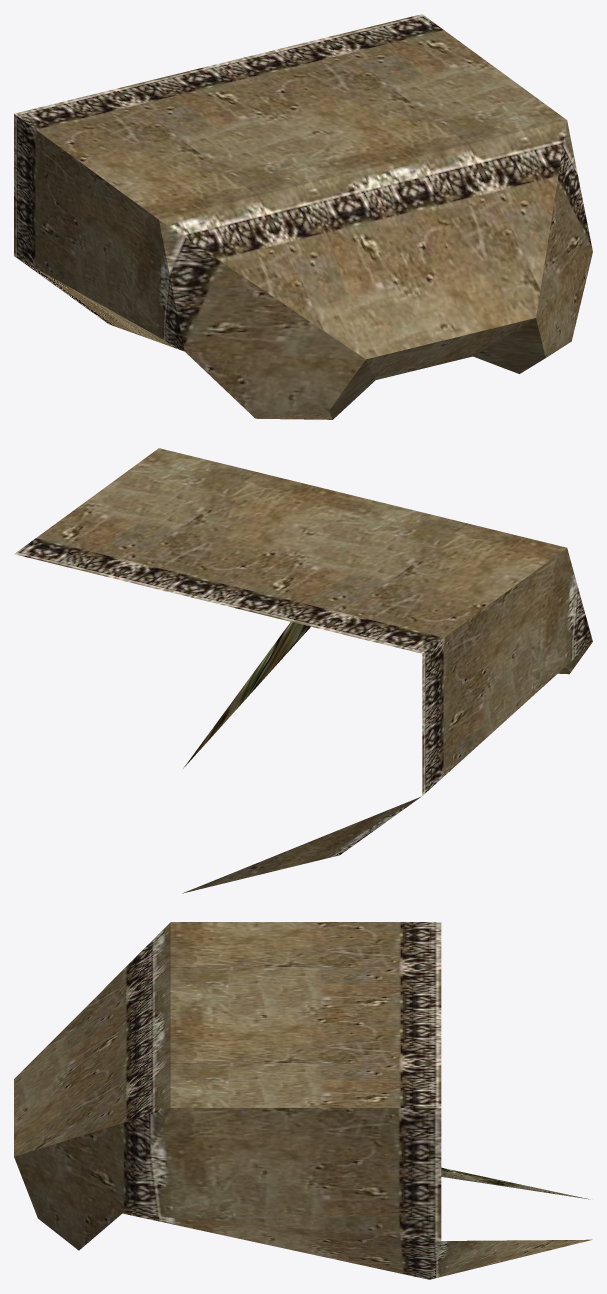
The model's file is StoneMuWall03.glb.
3 renders of one model, top to bottom at view 1: azimuth 30°, elevation 25°; view 2: azimuth 150°, elevation 25°; view 3: azimuth 270°, elevation 25°, orthographic. The views are drawn at different scales.
Visible parts, largest first — view 1: model_StoneMuWall03; view 2: model_StoneMuWall03; view 3: model_StoneMuWall03.
Part boxes in pixels (<box>): model_StoneMuWall03: <box>14,14,592,419</box>; model_StoneMuWall03: <box>14,448,592,893</box>; model_StoneMuWall03: <box>14,922,592,1279</box>.
Size of the model in its own units: 3 by 1.6 by 3.95.
Materials: 2 (2 with a texture image).
